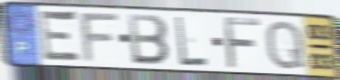B: (126, 12, 171, 67)
E: (39, 7, 83, 66)
F: (221, 15, 263, 71), (78, 12, 122, 65)
L: (174, 15, 210, 68)
Q: (264, 18, 308, 72)
